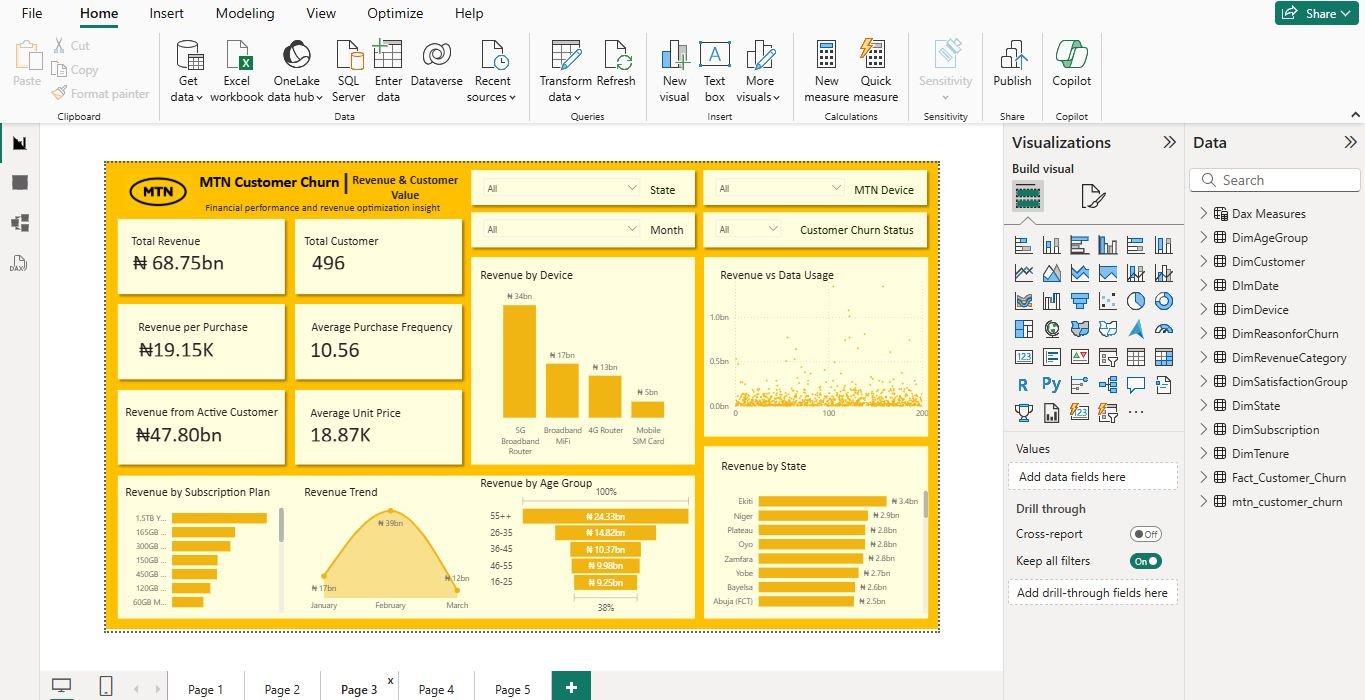

What the dashboard file says about the page in this screenshot:
{"tool":"powerbi","page":{"name":"Page 3","canvas":[1280,720],"ordinal":2},"visuals":[{"type":"textbox","box":[832.9,24,215.7,52.9],"z":0},{"type":"slicer","fields":{"Values":["DimDevice.MTN Device"]},"box":[927.1,14,218.6,47.1],"z":1000},{"type":"slicer","fields":{"Values":["Fact_Customer_Churn.Customer Churn Status"]},"box":[927.1,76.8,121.4,47.1],"z":2000},{"type":"textbox","box":[1062.9,86.8,192.9,42.9],"z":3000},{"type":"textbox","box":[832.9,86.8,108.6,42.9],"z":4000},{"type":"textbox","box":[1145.7,24,110,52.9],"z":5000},{"type":"slicer","fields":{"Values":["DimState.State"]},"box":[571.4,14,261.4,47.1],"z":6000},{"type":"slicer","fields":{"Values":["DImDate.Month Name"]},"box":[571.4,76.8,261.4,47.1],"z":7000},{"type":"cardVisual","fields":{"Data":["Dax Measures.Total Revenue"]},"box":[24.3,108.3,177.1,61.4],"z":8000},{"type":"textbox","box":[34.3,102.5,215.7,52.9],"z":9000},{"type":"cardVisual","fields":{"Data":["Dax Measures.Total Customer"]},"box":[300,108.3,177.1,61.4],"z":10000},{"type":"textbox","box":[300,102.5,215.7,52.9],"z":11000},{"type":"cardVisual","fields":{"Data":["Dax Measures.Revenue per Purchase"]},"box":[34.3,241.6,177.1,61.4],"z":12000},{"type":"textbox","box":[44.3,235.9,215.7,52.9],"z":13000},{"type":"cardVisual","fields":{"Data":["Dax Measures.Average Purchase Frequency"]},"box":[297.1,242,215.9,62.3],"z":14000},{"type":"textbox","box":[310,235.4,241.4,52.9],"z":15000},{"type":"cardVisual","fields":{"Data":["Dax Measures.Revenue from Active Customer"]},"box":[28.6,372.5,177.1,61.4],"z":16000},{"type":"textbox","box":[24.3,366.8,255.7,52.9],"z":17000},{"type":"cardVisual","fields":{"Data":["Dax Measures.Averge Unit Price"]},"box":[297.1,372.5,177.1,61.4],"z":18000},{"type":"textbox","box":[310,367.4,215.7,52.9],"z":19000},{"type":"clusteredColumnChart","fields":{"Category":["DimDevice.MTN Device"],"Y":["Dax Measures.Total Revenue"]},"box":[571.4,182.5,321.4,275.7],"z":20000},{"type":"textbox","box":[571.4,155.4,215.7,52.9],"z":21000},{"type":"lineChart","fields":{"Category":["DImDate.Month Name"],"Y":["Dax Measures.Total Revenue"]},"box":[288.6,516.8,297.1,181.4],"z":22000},{"type":"textbox","box":[300,489.7,215.7,52.9],"z":23000},{"type":"scatterChart","fields":{"X":["Fact_Customer_Churn.Data Usage"],"Y":["Sum(Fact_Customer_Churn.Total Revenue)"]},"box":[922.9,169.7,347.1,234.3],"z":24000},{"type":"textbox","box":[940,155.4,215.7,52.9],"z":25000},{"type":"clusteredBarChart","fields":{"Y":["Dax Measures.Total Revenue"],"Category":["DimSubscription.Subscription Plan"]},"box":[24.3,516.8,254.3,181.4],"z":26000},{"type":"textbox","box":[24.3,489.7,254.3,52.9],"z":27000},{"type":"funnel","fields":{"Y":["Dax Measures.Total Revenue"],"Category":["DimAgeGroup.Age_Group"]},"box":[585.7,491.1,320,207.1],"z":28000},{"type":"textbox","box":[571.4,475.4,215.7,52.9],"z":29000},{"type":"barChart","fields":{"Category":["DimState.State"],"Y":["Dax Measures.Total Revenue"]},"box":[923,491.3,347,207],"z":30000},{"type":"textbox","box":[942,449.3,215.9,52.2],"z":31000},{"type":"image","box":[0,8.7,159.4,68.1],"z":32000},{"type":"textbox","box":[139.1,8.7,246.4,44.9],"z":33000},{"type":"textbox","box":[368.1,8.7,185.5,73.9],"z":34000},{"type":"textbox","box":[129,53.6,408.7,60.9],"z":35000},{"type":"textbox","box":[355.1,0,39.1,84.1],"z":36000}]}

Visuals, with their boxes on the page's 1280x720 design canvas (x1, y1, x2, y2). These are canvas units, not pixel positions in the 1365x700 screenshot, which may show the page scaled, cropped or inside an application window:
textbox: Rect(833, 24, 1049, 77)
slicer - DimDevice.MTN Device: Rect(927, 14, 1146, 61)
slicer - Fact_Customer_Churn.Customer Churn Status: Rect(927, 77, 1048, 124)
textbox: Rect(1063, 87, 1256, 130)
textbox: Rect(833, 87, 942, 130)
textbox: Rect(1146, 24, 1256, 77)
slicer - DimState.State: Rect(571, 14, 833, 61)
slicer - DImDate.Month Name: Rect(571, 77, 833, 124)
cardVisual - Dax Measures.Total Revenue: Rect(24, 108, 201, 170)
textbox: Rect(34, 102, 250, 155)
cardVisual - Dax Measures.Total Customer: Rect(300, 108, 477, 170)
textbox: Rect(300, 102, 516, 155)
cardVisual - Dax Measures.Revenue per Purchase: Rect(34, 242, 211, 303)
textbox: Rect(44, 236, 260, 289)
cardVisual - Dax Measures.Average Purchase Frequency: Rect(297, 242, 513, 304)
textbox: Rect(310, 235, 551, 288)
cardVisual - Dax Measures.Revenue from Active Customer: Rect(29, 372, 206, 434)
textbox: Rect(24, 367, 280, 420)
cardVisual - Dax Measures.Averge Unit Price: Rect(297, 372, 474, 434)
textbox: Rect(310, 367, 526, 420)
clusteredColumnChart - DimDevice.MTN Device x Dax Measures.Total Revenue: Rect(571, 182, 893, 458)
textbox: Rect(571, 155, 787, 208)
lineChart - DImDate.Month Name x Dax Measures.Total Revenue: Rect(289, 517, 586, 698)
textbox: Rect(300, 490, 516, 543)
scatterChart - Fact_Customer_Churn.Data Usage x Sum(Fact_Customer_Churn.Total Revenue): Rect(923, 170, 1270, 404)
textbox: Rect(940, 155, 1156, 208)
clusteredBarChart - Dax Measures.Total Revenue x DimSubscription.Subscription Plan: Rect(24, 517, 279, 698)
textbox: Rect(24, 490, 279, 543)
funnel - Dax Measures.Total Revenue x DimAgeGroup.Age_Group: Rect(586, 491, 906, 698)
textbox: Rect(571, 475, 787, 528)
barChart - DimState.State x Dax Measures.Total Revenue: Rect(923, 491, 1270, 698)
textbox: Rect(942, 449, 1158, 502)
image: Rect(0, 9, 159, 77)
textbox: Rect(139, 9, 386, 54)
textbox: Rect(368, 9, 554, 83)
textbox: Rect(129, 54, 538, 114)
textbox: Rect(355, 0, 394, 84)
